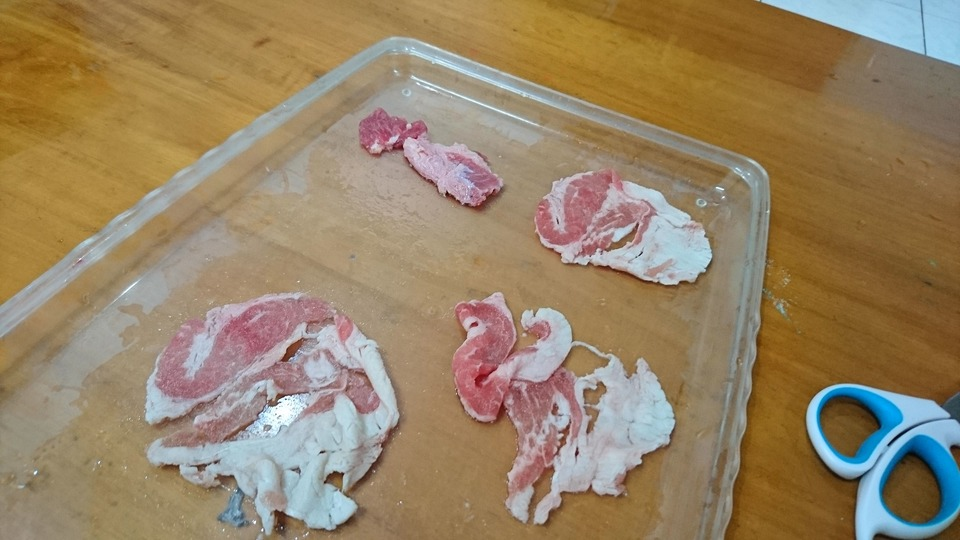restructured meat: (142, 292, 404, 540), (434, 292, 676, 524), (531, 159, 716, 287), (355, 106, 503, 212)
